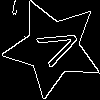V: (28, 22, 84, 72)
